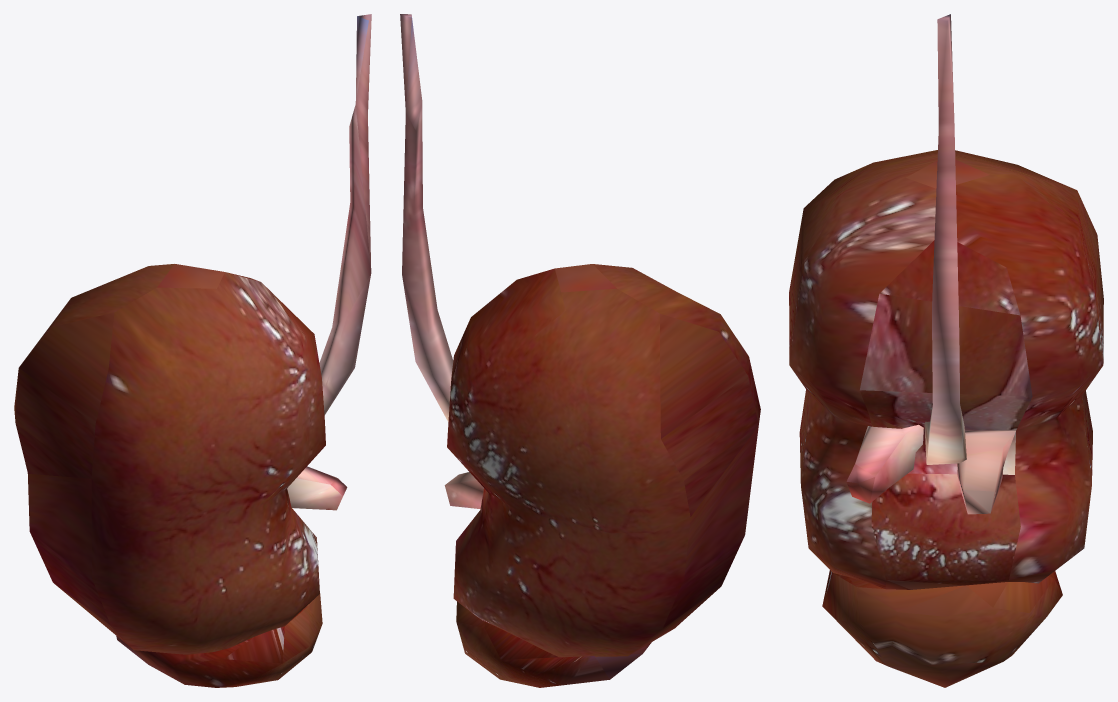
File: AuthenticKidney.fbx
3 renders of one model, left to right at view 1: azimuth 30°, elevation 25°; view 2: azimuth 150°, elevation 25°; view 3: azimuth 270°, elevation 25°, orthographic. The views are drawn at different scales.
Visible parts, largest first — view 1: Kidney; view 2: Kidney; view 3: Kidney.
Part boxes in pixels (bbox=[...]): Kidney: bbox=[14, 14, 371, 687]; Kidney: bbox=[400, 14, 760, 687]; Kidney: bbox=[789, 14, 1103, 687].
Size of the model in its own units: 0.046 by 0.0864 by 0.0339.
